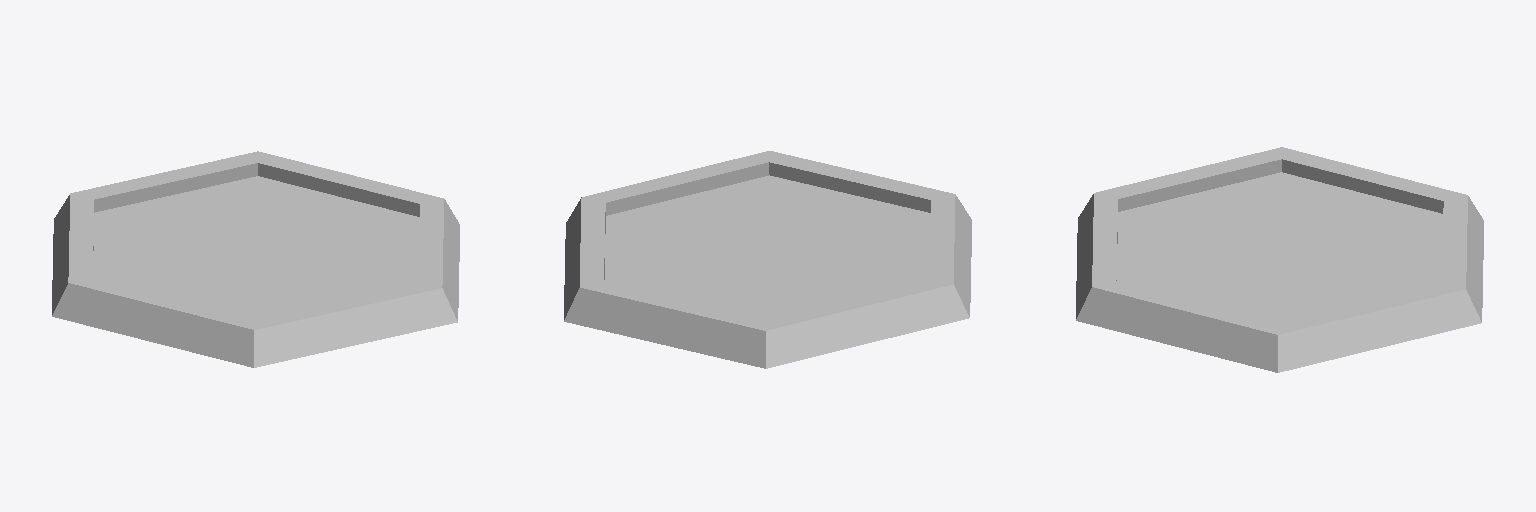
The model's file is honey-comb.obj.
3 views of the same model, side by side, from view 1: azimuth 30°, elevation 25°; view 2: azimuth 150°, elevation 25°; view 3: azimuth 270°, elevation 25° (orthographic).
Visible parts, largest first — view 1: Obj_000361; view 2: Obj_000361; view 3: Obj_000361.
Part boxes in pixels (bbox=[...]): Obj_000361: bbox=[52, 151, 459, 367]; Obj_000361: bbox=[564, 151, 971, 368]; Obj_000361: bbox=[1076, 147, 1483, 372].
Bounding box in the file's own units: 0.504 × 0.0425 × 0.4388.